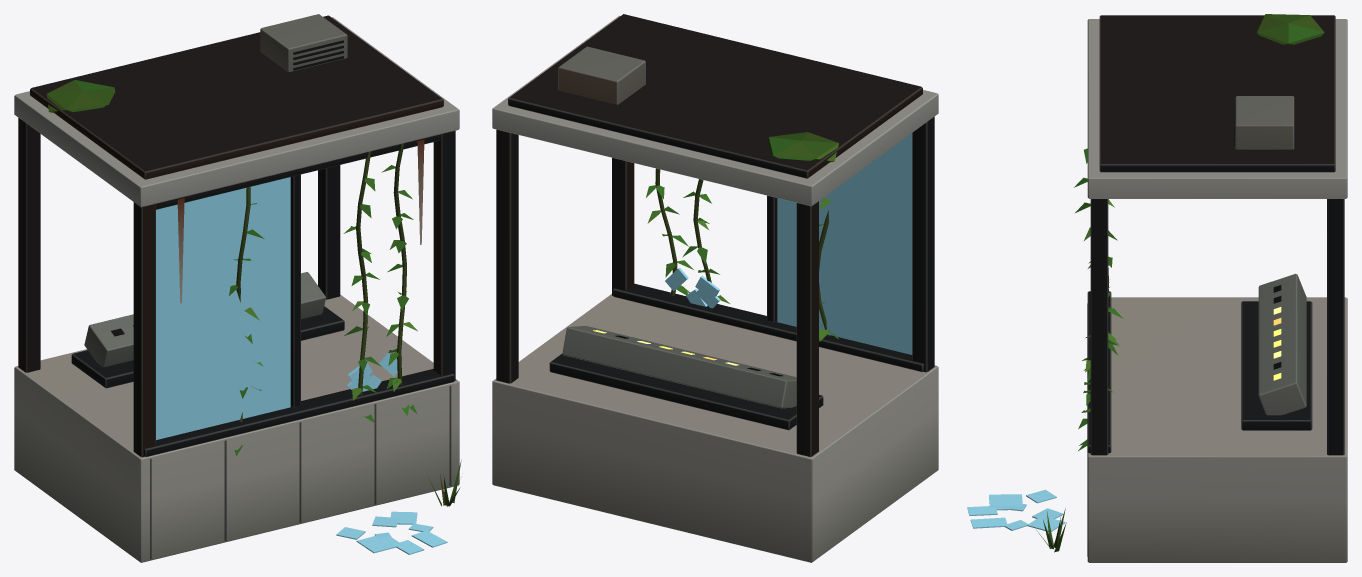
The model's file is observation_booth.glb.
3 renders of one model, left to right at view 1: azimuth 30°, elevation 25°; view 2: azimuth 150°, elevation 25°; view 3: azimuth 270°, elevation 25°, orthographic. The views are drawn at different scales.
Parts seen in each view (by area): view 1: Mesh, Glass; view 2: Mesh, Glass; view 3: Mesh, Glass.
Boxes of the visible parts, left/top/right/bottom form: Mesh: left=14, top=14, right=461, bottom=562; Glass: left=156, top=177, right=447, bottom=554; Mesh: left=492, top=14, right=938, bottom=562; Glass: left=777, top=133, right=912, bottom=354; Mesh: left=1034, top=14, right=1347, bottom=562; Glass: left=967, top=489, right=1065, bottom=531.
Size of the model in its own units: 3.2 by 3.9 by 3.22.
